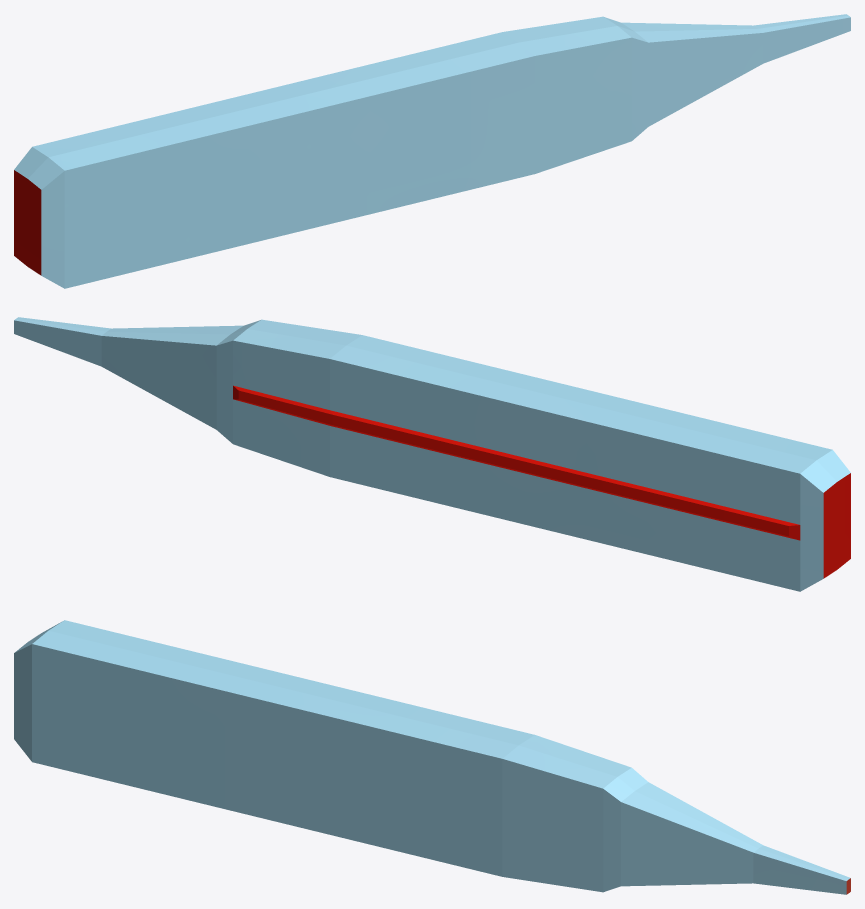
The model's file is thermometer.glb.
The picture shows the model from 3 angles, top to bottom: view 1: azimuth 30°, elevation 25°; view 2: azimuth 150°, elevation 25°; view 3: azimuth 330°, elevation 25°; orthographic projection.
Parts seen in each view (by area): view 1: thermometer; view 2: thermometer; view 3: thermometer.
Part boxes in pixels (box(x1,y1,x2,y2)): thermometer: box(14, 14, 850, 288); thermometer: box(14, 317, 850, 591); thermometer: box(14, 620, 850, 894).
Bounding box in the file's own units: 0.0863 × 0.0121 × 0.00618.
1 material, 1 textured.
